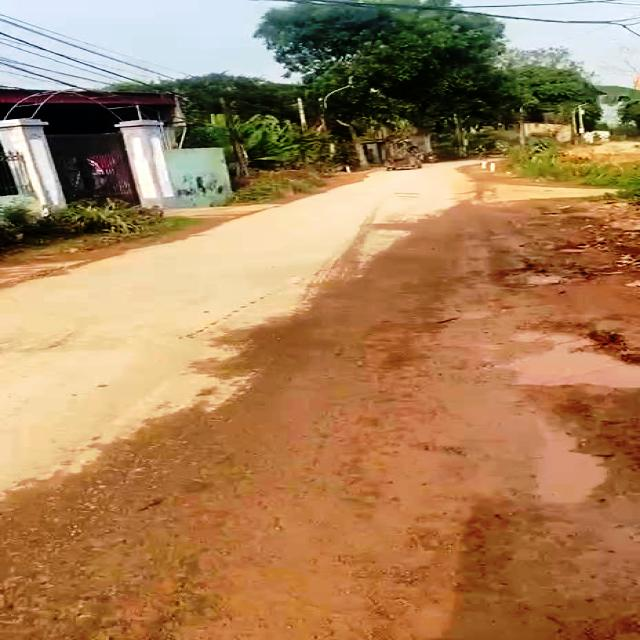pothole: (502, 326, 640, 392), (514, 422, 612, 506)
